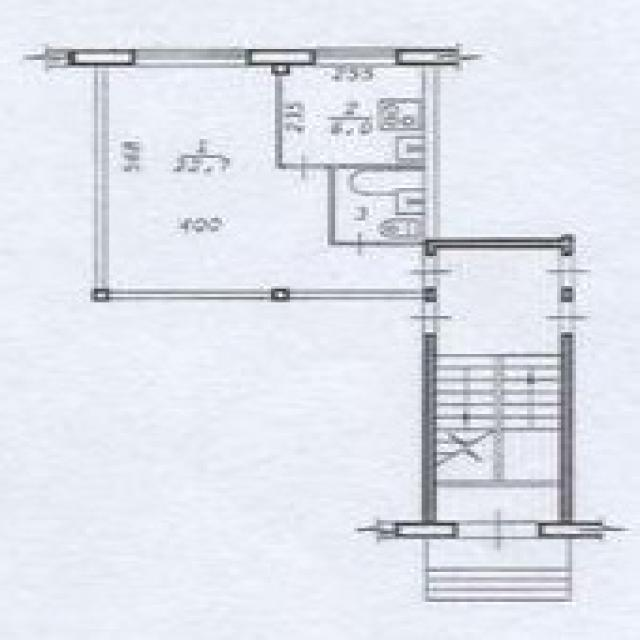Bathrooms: (337, 169, 421, 238)
Corridors: (442, 251, 559, 353)
Doors: (456, 508, 538, 553), (543, 257, 591, 288), (541, 302, 590, 332), (407, 257, 455, 287), (408, 302, 455, 332), (283, 150, 323, 182), (345, 230, 381, 259)
LBwalls: (354, 520, 456, 541), (540, 521, 631, 539), (395, 48, 483, 66), (66, 49, 136, 67), (246, 48, 317, 65), (274, 76, 284, 170), (271, 65, 291, 76)
Offices: (110, 68, 420, 287), (285, 66, 422, 162)
Stairs: (440, 354, 558, 518), (424, 539, 574, 604)
Walls: (88, 68, 440, 302), (320, 67, 576, 257), (422, 334, 438, 519), (559, 332, 574, 519), (559, 287, 574, 303)
Windows: (137, 49, 247, 68), (318, 47, 394, 64), (43, 50, 65, 67)
